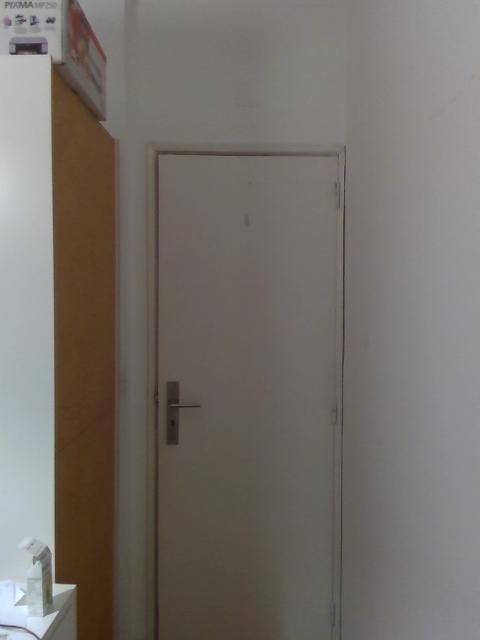door: (155, 153, 338, 640)
